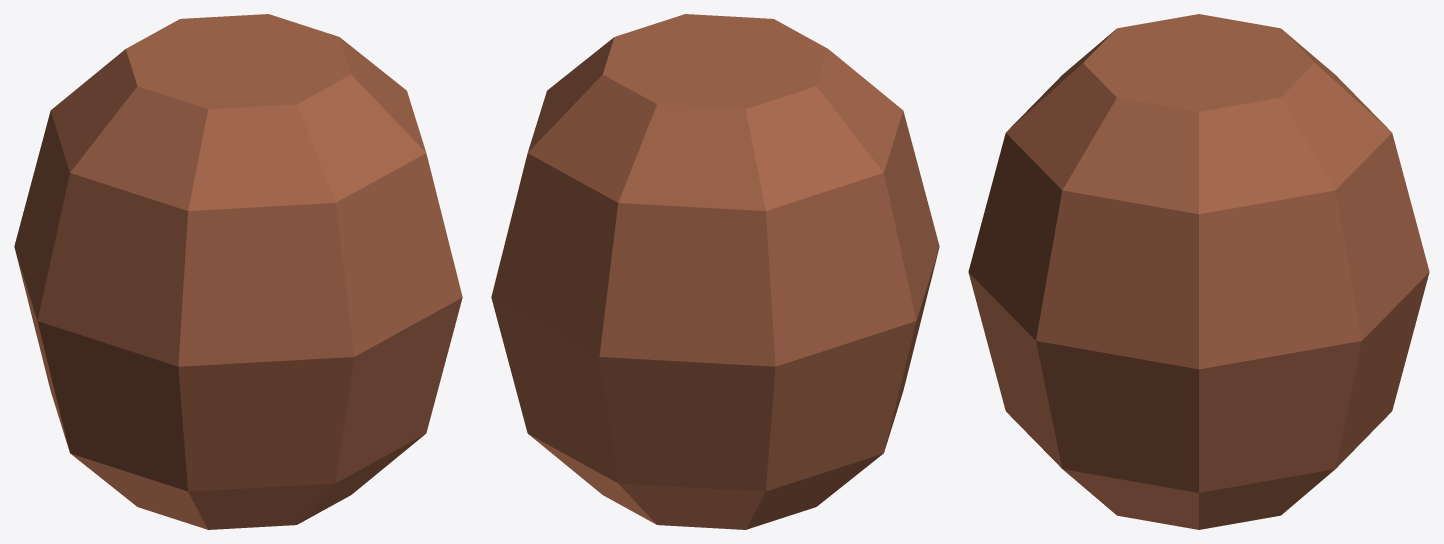
Rendered from coconut.fbx.
3 renders of one model, left to right at view 1: azimuth 30°, elevation 25°; view 2: azimuth 150°, elevation 25°; view 3: azimuth 270°, elevation 25°, orthographic.
Visible parts, largest first — view 1: coconut; view 2: coconut; view 3: coconut.
Part boxes in pixels (left/top/right/bottom): coconut: left=14, top=14, right=462, bottom=529; coconut: left=491, top=14, right=939, bottom=529; coconut: left=968, top=14, right=1429, bottom=529.
Bounding box in the file's own units: 2.48 × 2.48 × 2.48.
